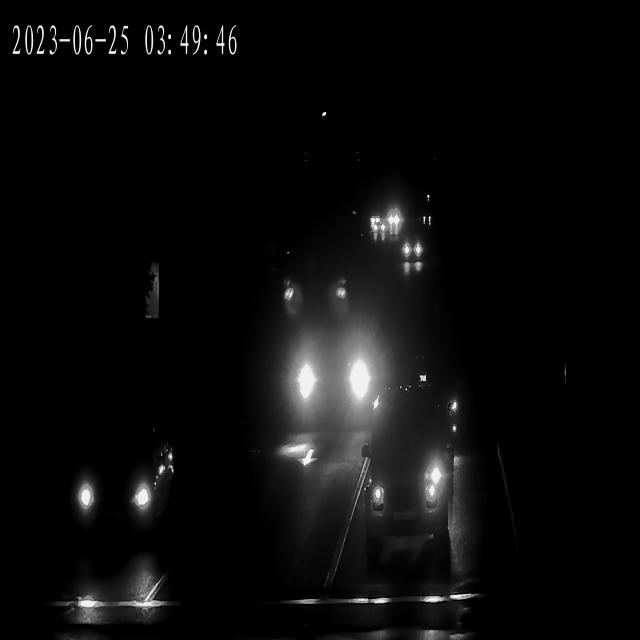Car: (65, 427, 175, 543), (365, 436, 454, 531), (286, 331, 375, 409), (285, 258, 358, 343), (405, 348, 466, 436), (400, 238, 425, 263), (383, 213, 402, 227), (369, 221, 385, 235), (371, 221, 388, 234), (387, 217, 403, 230), (368, 217, 381, 227)
